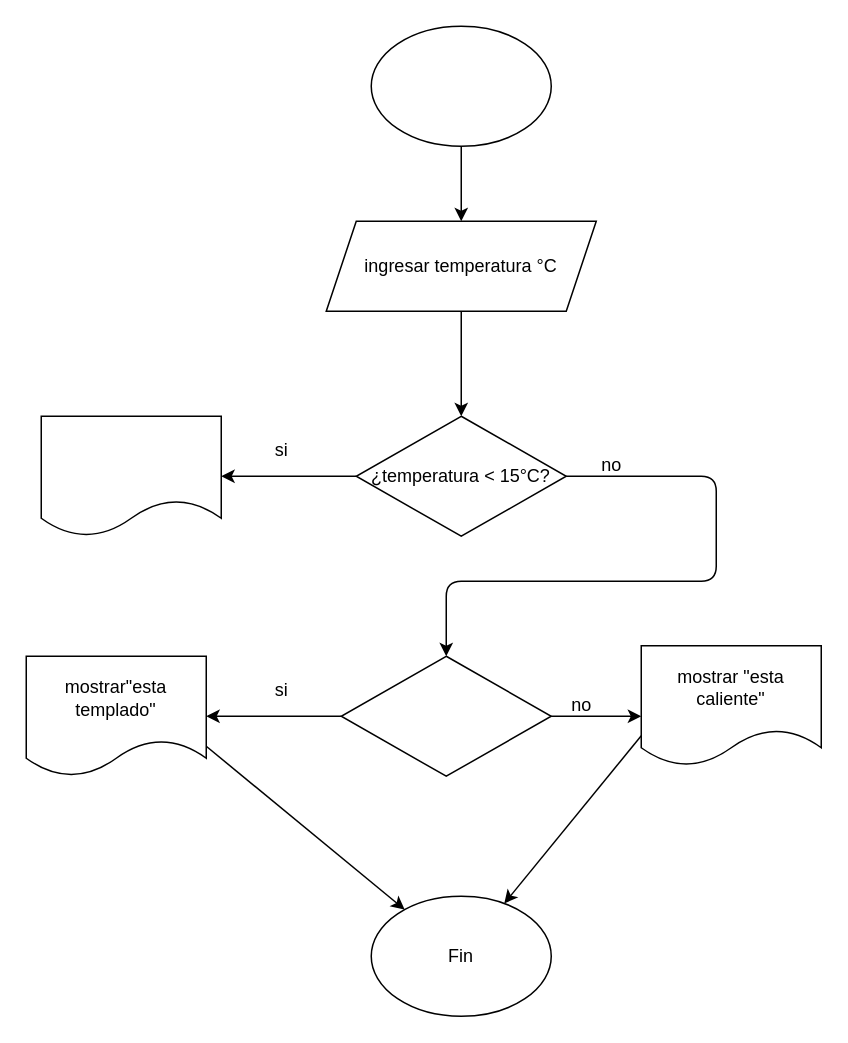
The diagram is 848 pixels wide and 1043 high, and some of its shapes have lost their labels. The centre of each missing label's shape, as x and y in pixels:
inicio: pixel 460 85
mostrar"esta frio": pixel 130 475
¿temperatura <= 25°C?: pixel 445 715
